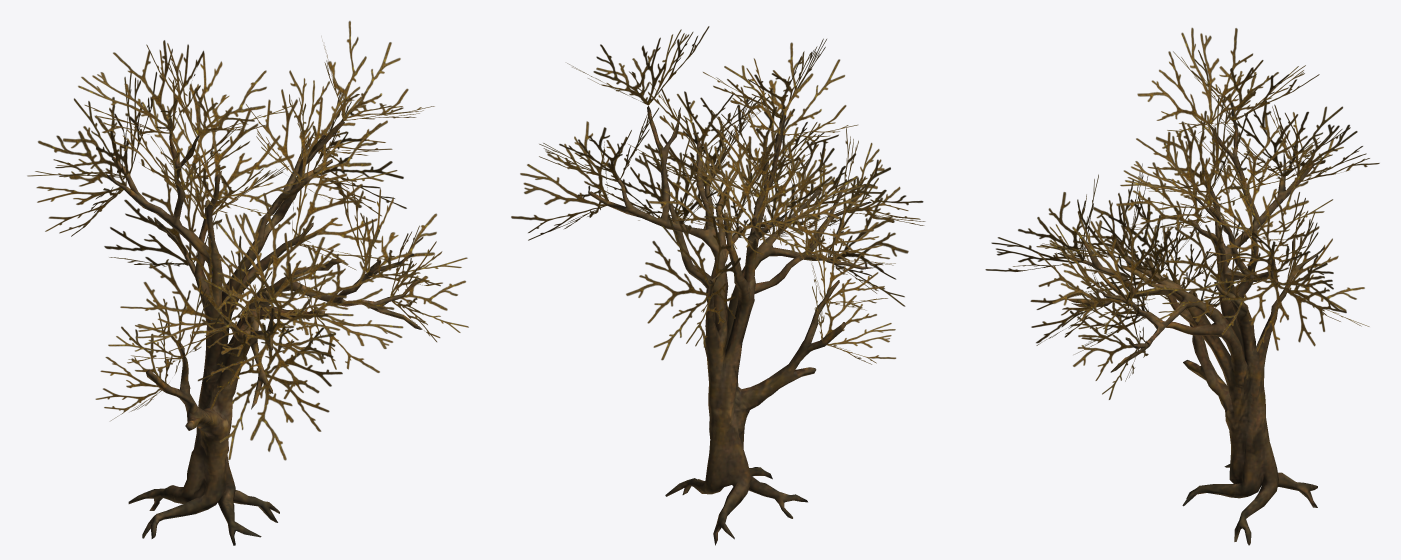
Rendered from tree-small.glb.
3 renders of one model, left to right at view 1: azimuth 30°, elevation 25°; view 2: azimuth 150°, elevation 25°; view 3: azimuth 270°, elevation 25°, orthographic. The views are drawn at different scales.
Parts seen in each view (by area): view 1: branches, tree3; view 2: branches, tree3; view 3: branches, tree3.
Part boxes in pixels (<box>): branches: <box>27,21,468,460</box>; tree3: <box>106,118,422,545</box>; branches: <box>511,26,925,364</box>; tree3: <box>588,106,874,545</box>; branches: <box>985,27,1379,399</box>; tree3: <box>1056,102,1324,545</box>.
Size of the model in its own units: 16.45 by 22.58 by 17.86.
2 materials, 2 textured.
